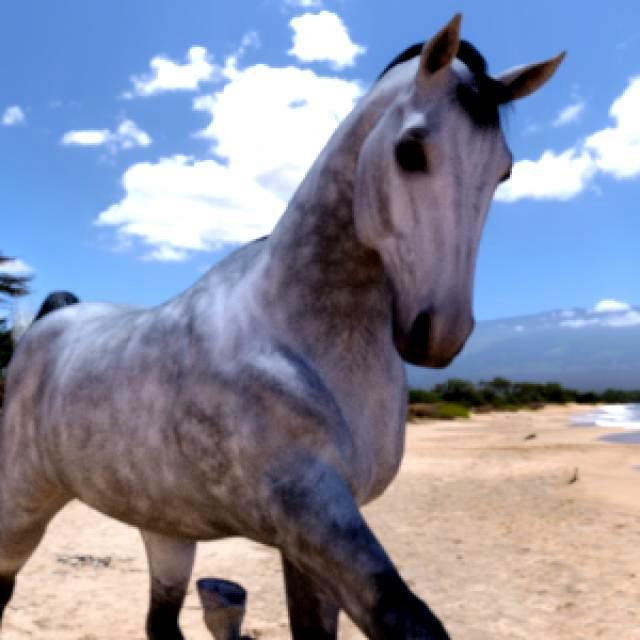horse: (0, 15, 564, 640), (201, 580, 245, 640)
